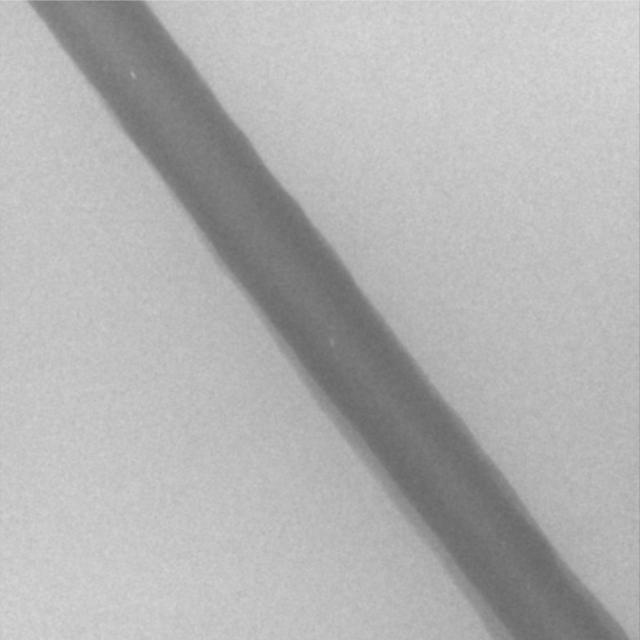air hole: (328, 337, 336, 347), (128, 71, 136, 80)
